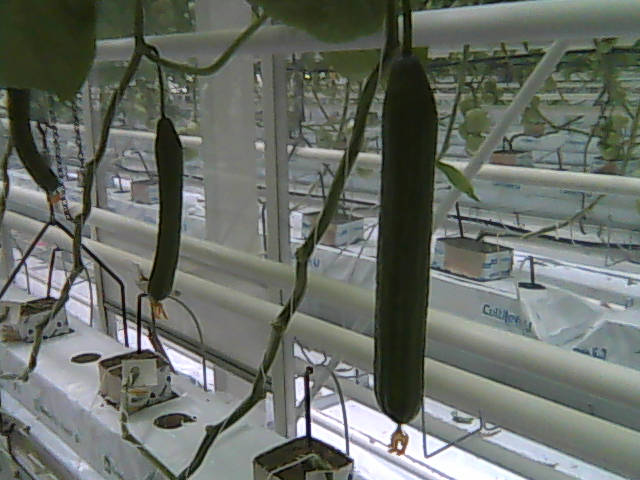concombre: (372, 44, 441, 456), (143, 113, 186, 319)
